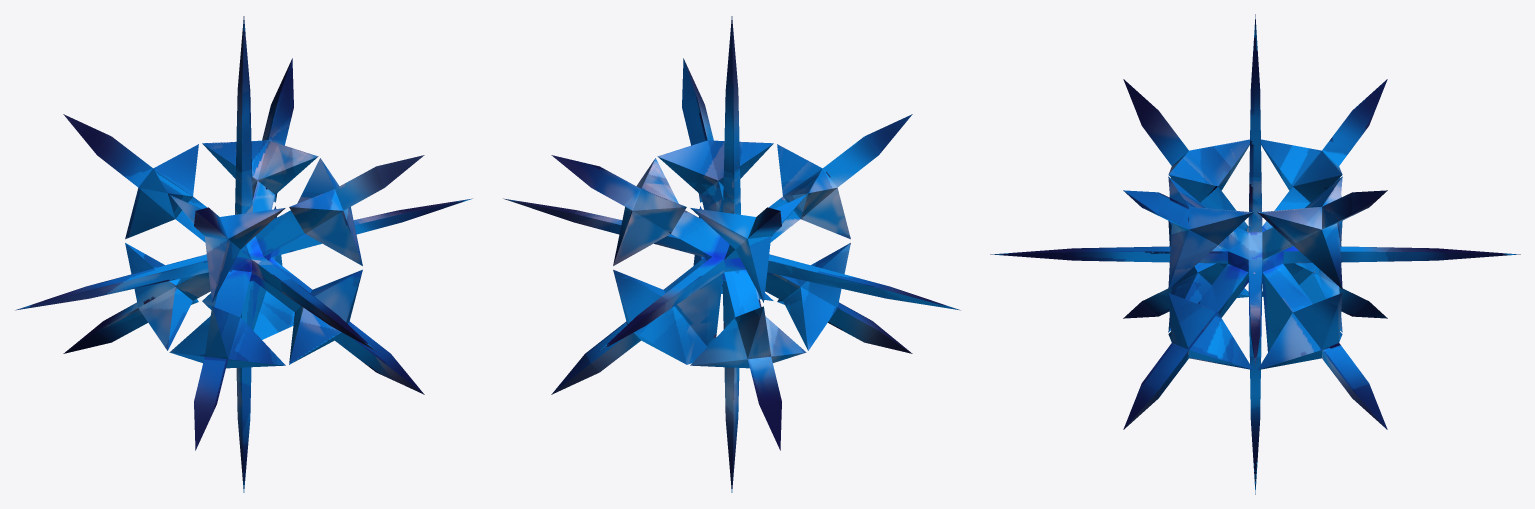
The model's file is IceMesh.fbx.
The picture shows the model from 3 angles, left to right: view 1: azimuth 30°, elevation 25°; view 2: azimuth 150°, elevation 25°; view 3: azimuth 270°, elevation 25°; orthographic projection.
Visible parts, largest first — view 1: Cube; view 2: Cube; view 3: Cube.
Boxes of the visible parts, <box> form: Cube: <box>15,16,472,492</box>; Cube: <box>503,16,960,492</box>; Cube: <box>990,14,1520,494</box>.
Size of the model in its own units: 1924 by 1924 by 1924.
1 material, 1 textured.
